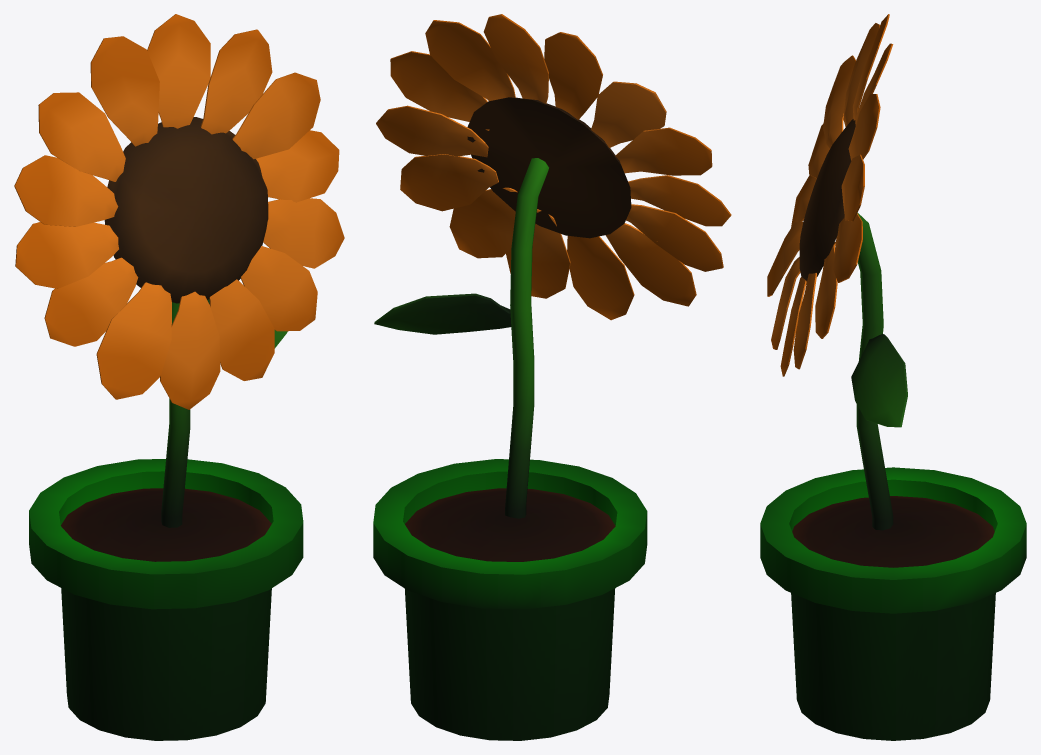
The model's file is PotPlant_Mesh_vc.fbx.
3 renders of one model, left to right at view 1: azimuth 30°, elevation 25°; view 2: azimuth 150°, elevation 25°; view 3: azimuth 270°, elevation 25°, orthographic. The views are drawn at different scales.
Parts seen in each view (by area): view 1: pCylinder6; view 2: pCylinder6; view 3: pCylinder6.
Boxes of the visible parts, x1,y1,x2,y2 form: pCylinder6: [14, 14, 344, 740]; pCylinder6: [373, 14, 731, 740]; pCylinder6: [760, 14, 1026, 740].
Size of the model in its own units: 392 by 754 by 276.
